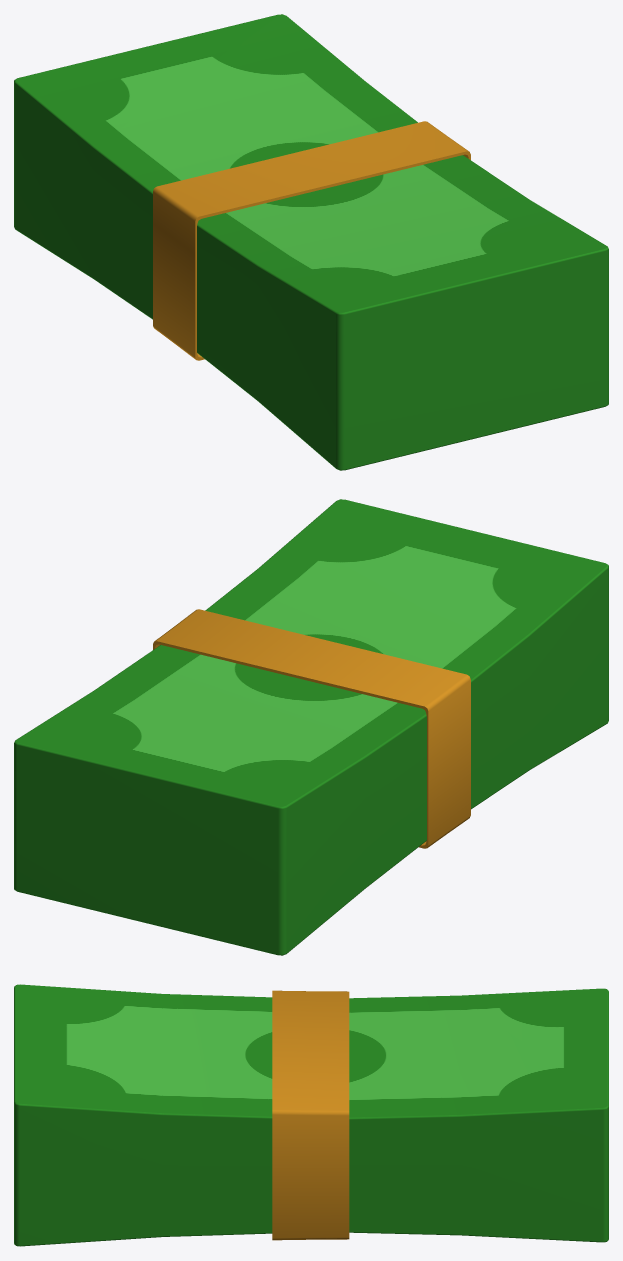
The model's file is money.fbx.
The picture shows the model from 3 angles, top to bottom: view 1: azimuth 30°, elevation 25°; view 2: azimuth 150°, elevation 25°; view 3: azimuth 270°, elevation 25°; orthographic projection. The views are drawn at different scales.
Visible parts, largest first — view 1: Money; view 2: Money; view 3: Money.
Boxes of the visible parts, <box> form: Money: <box>14,14,608,470</box>; Money: <box>14,499,608,955</box>; Money: <box>14,984,608,1246</box>.
Bounding box in the file's own units: 298 × 163 × 614.
Materials: 1 (1 with a texture image).
